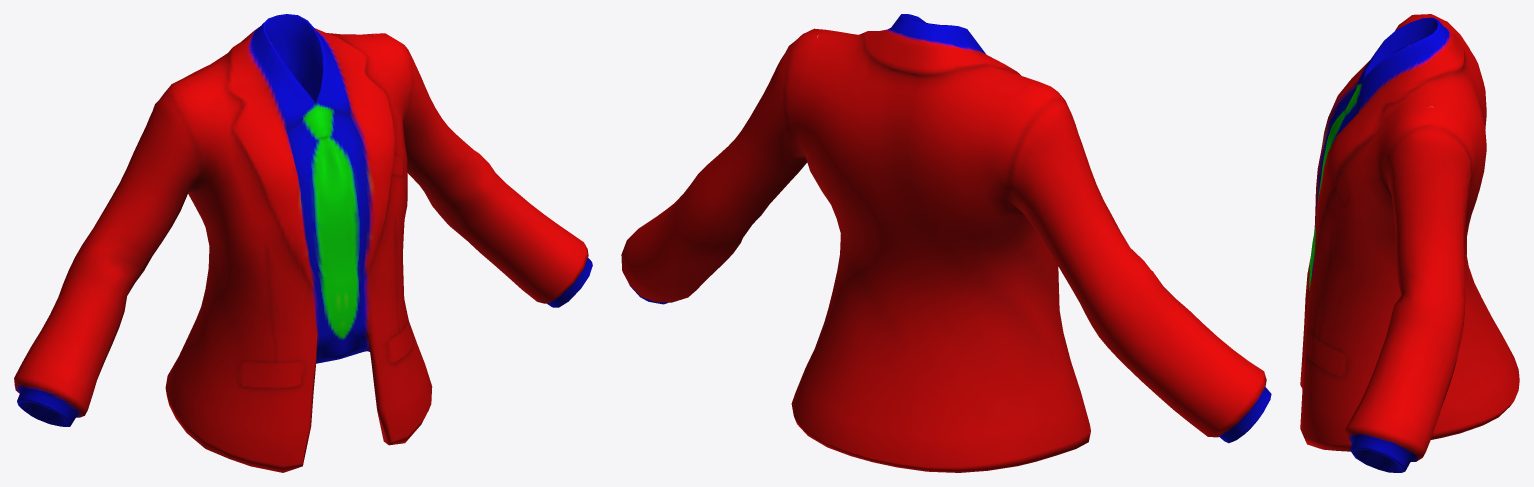
Rendered from Top_OpenJacket.obj.
The picture shows the model from 3 angles, left to right: view 1: azimuth 30°, elevation 25°; view 2: azimuth 150°, elevation 25°; view 3: azimuth 270°, elevation 25°; orthographic projection. The views are drawn at different scales.
Parts seen in each view (by area): view 1: Top_OpenJacket_0; view 2: Top_OpenJacket_0; view 3: Top_OpenJacket_0.
Boxes of the visible parts, left/top/right/bottom form: Top_OpenJacket_0: left=14, top=14, right=592, bottom=472; Top_OpenJacket_0: left=621, top=14, right=1271, bottom=472; Top_OpenJacket_0: left=1300, top=14, right=1519, bottom=472.
Size of the model in its own units: 0.9082 by 0.6023 by 0.3067.
Materials: 1 (1 with a texture image).
